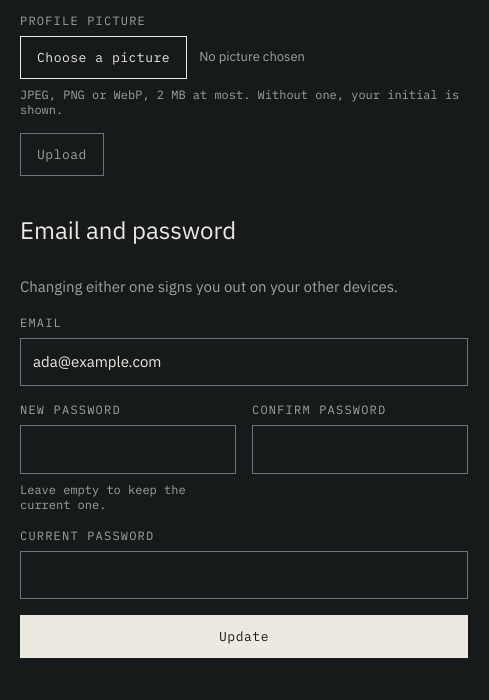
Test: ProfilePage email and password form › reads a 400 as "{}"
The image size is (489, 700).
(page scrolled)
Replace the text in the field labelled "Email" with "Ada@Example.org" at (244, 362), box [20, 338, 468, 386]
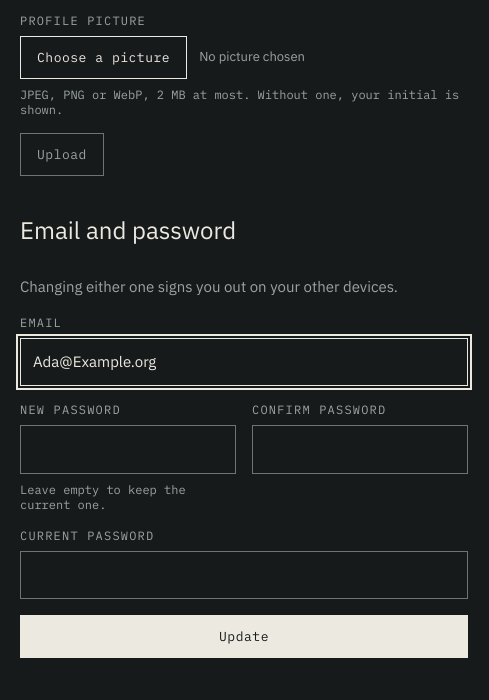
Type "secret-123" into the password field labelled "Current password".
click(244, 575); type("secret-123")  # box [20, 551, 468, 599]
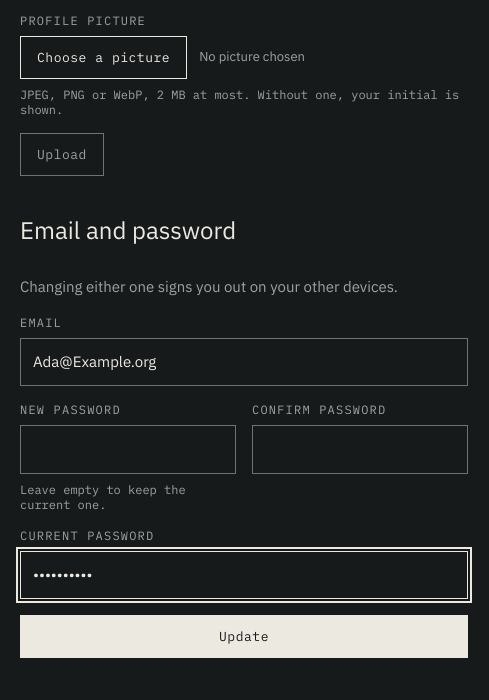
Click the button "Update".
click(244, 637)  # box [20, 615, 468, 658]
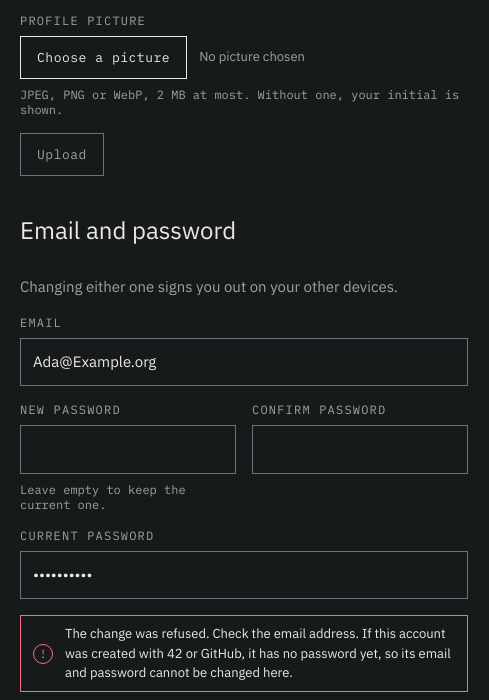
Expected: the text "has no password yet" is shown, [65, 625, 451, 681]
